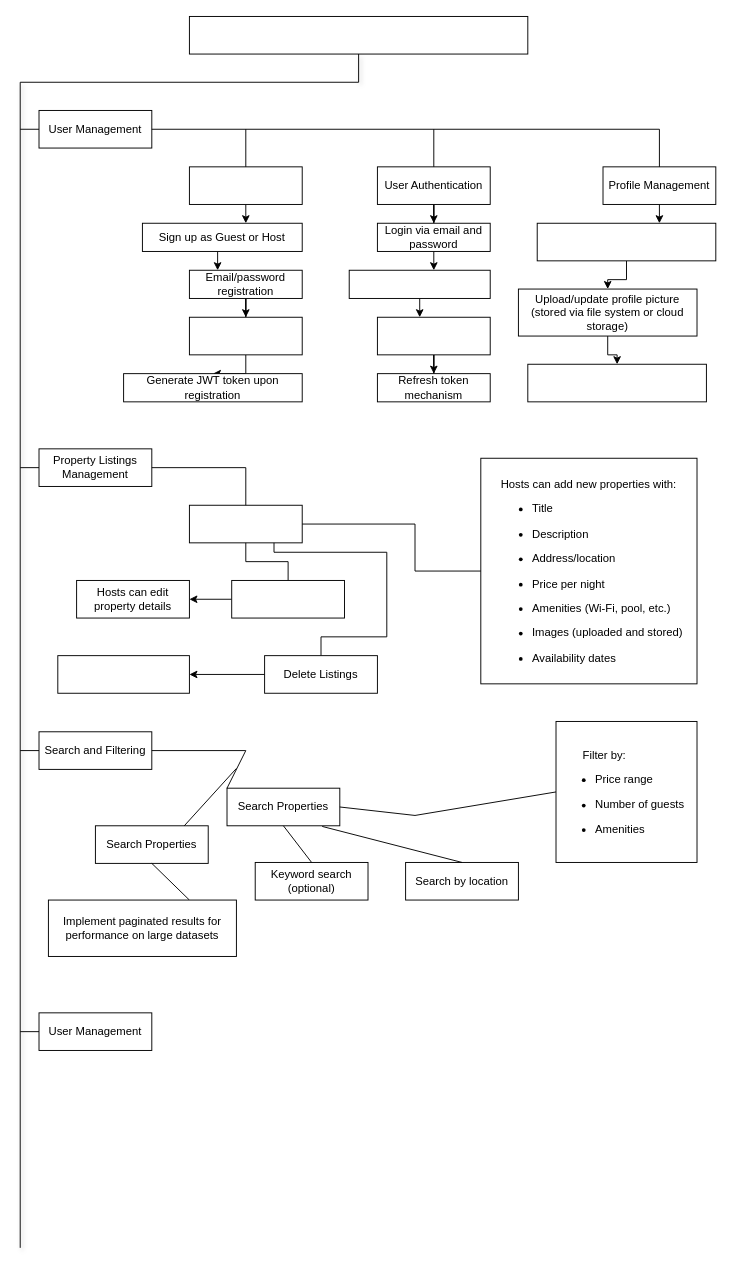
The diagram is 732 pixels wide and 1272 high, and some of its shapes have lost their labels. The centre of each missing label's shape, as x and y in pixels:
Core Functionalities: pixel 358 35
Create Listings: pixel 245 523
Hosts can delete their listings: pixel 123 674
JWT-based session authentication: pixel 433 335
OAuth login (Google, Facebook) integration: pixel 419 283
Secure password hashing (e.g., bcrypt): pixel 245 335
Update Listings: pixel 288 599
Update personal information: name, email, phone, preferences: pixel 626 241
User Registration: pixel 245 185
View user role (Guest, Host, Admin): pixel 616 382
